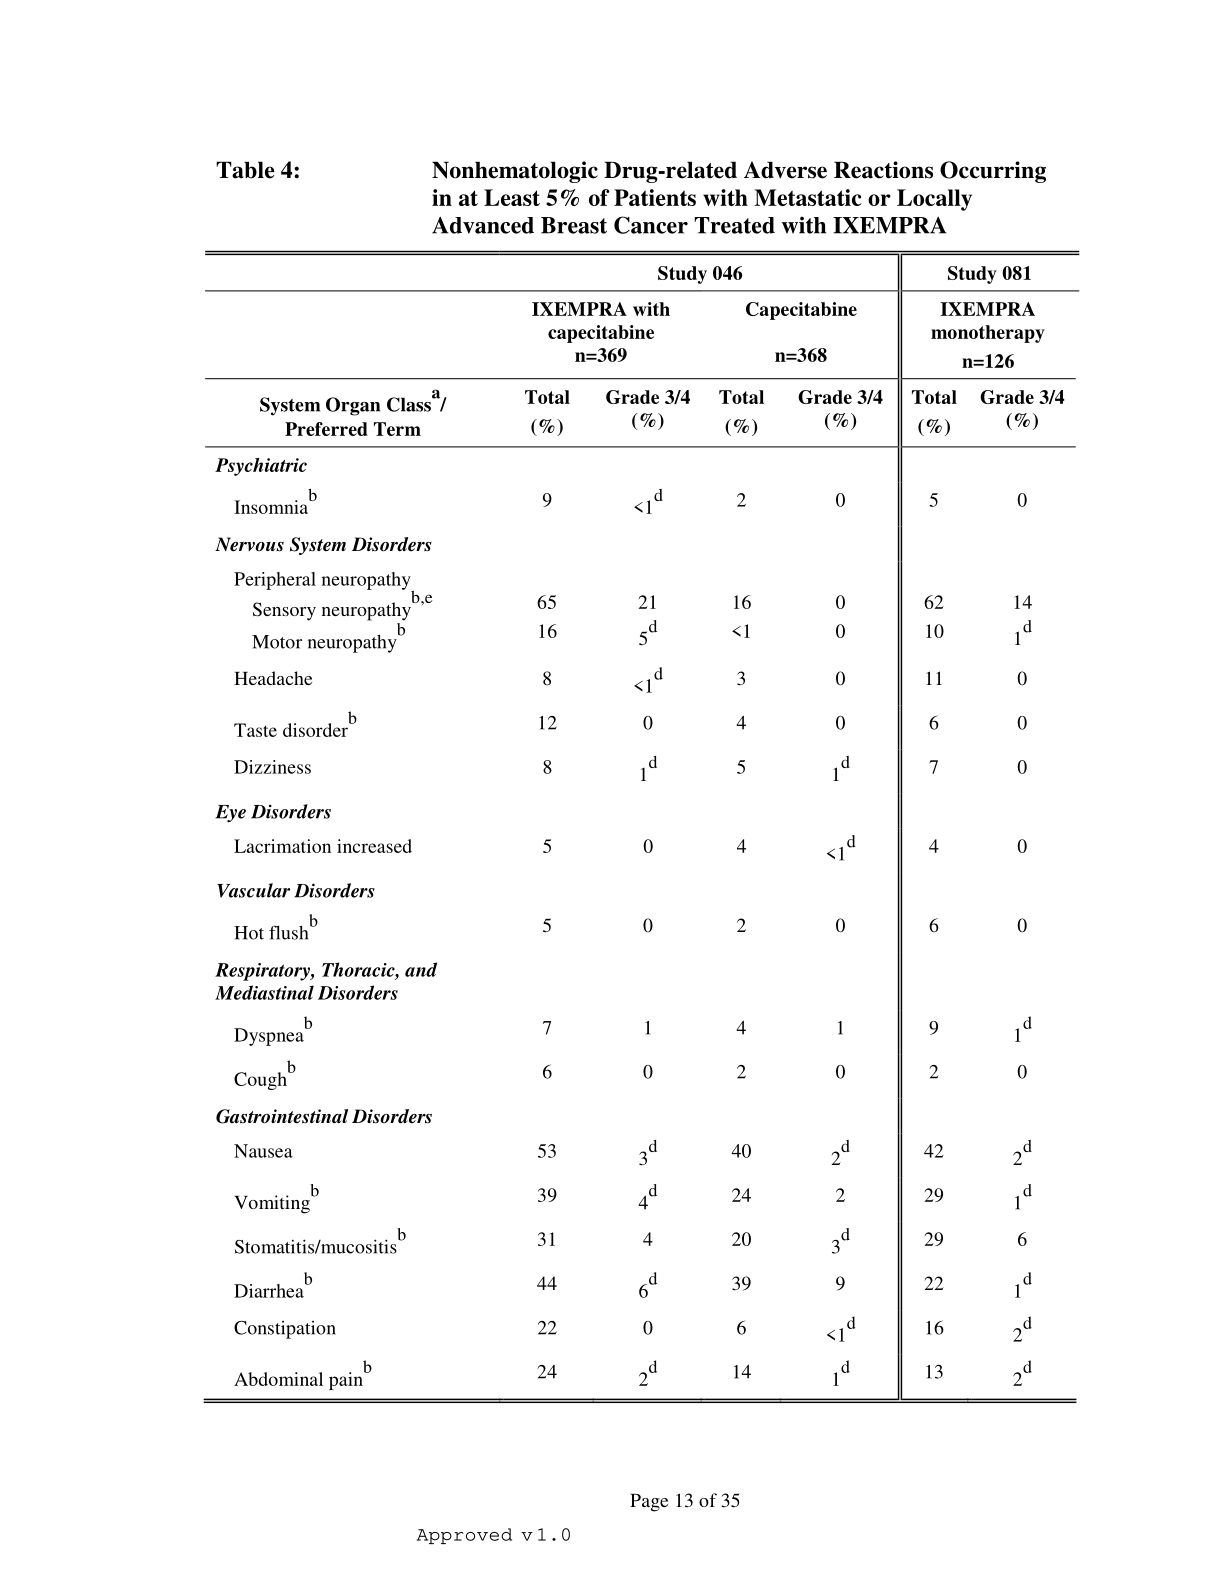partial_lined_merged_cells: (202, 249, 1081, 1407)
